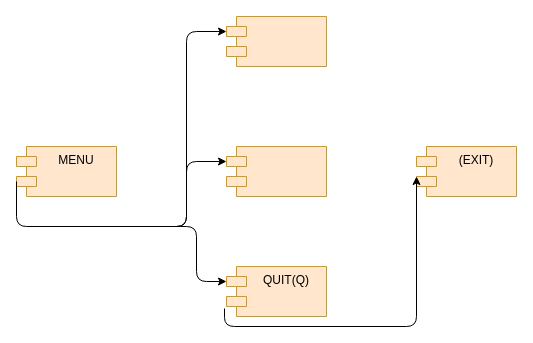
This 533x343 diagram has some shape labels left out. The shapes that lost their labels are listed below. From the top down, each one's centre as x and y in pixels, then its label:
At [276,41]: "(START)".
At [276,171]: "HELP(H)".
